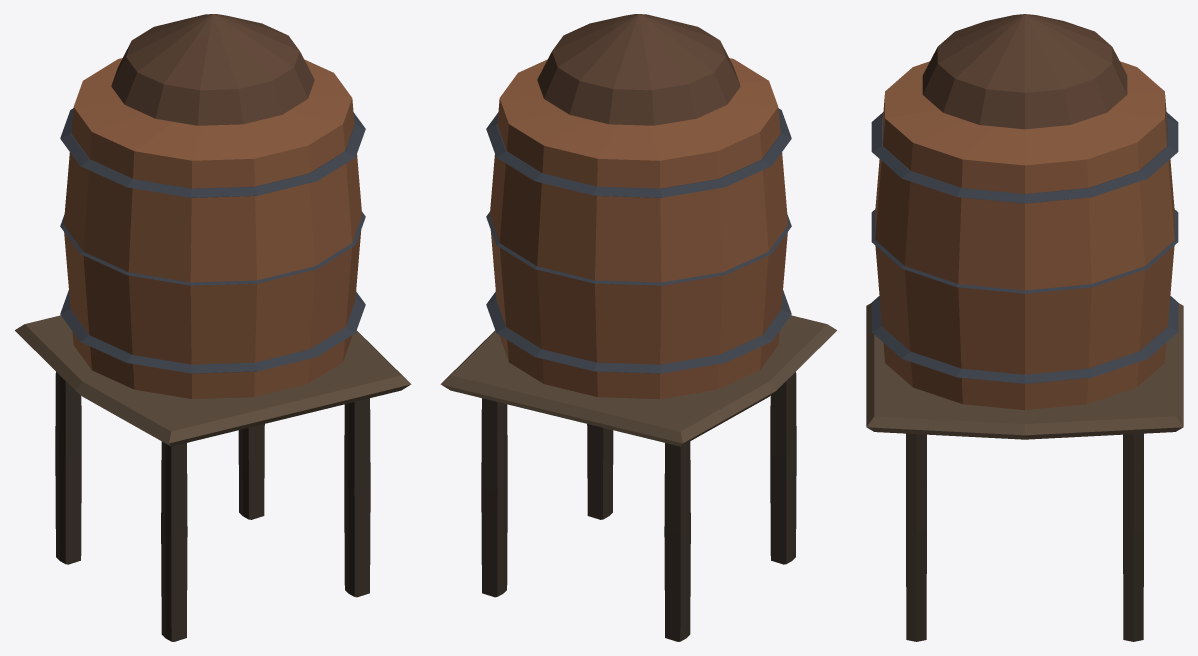
The model's file is r-tank.glb.
3 views of the same model, side by side, from view 1: azimuth 30°, elevation 25°; view 2: azimuth 150°, elevation 25°; view 3: azimuth 270°, elevation 25° (orthographic). The views are drawn at different scales.
Visible parts, largest first — view 1: p; view 2: p; view 3: p.
Part boxes in pixels (x1,y1,x2,y2): p: (15, 14, 411, 641); p: (440, 14, 836, 641); p: (866, 14, 1183, 641).
Bounding box in the file's own units: 1.8 × 3.55 × 1.75.
